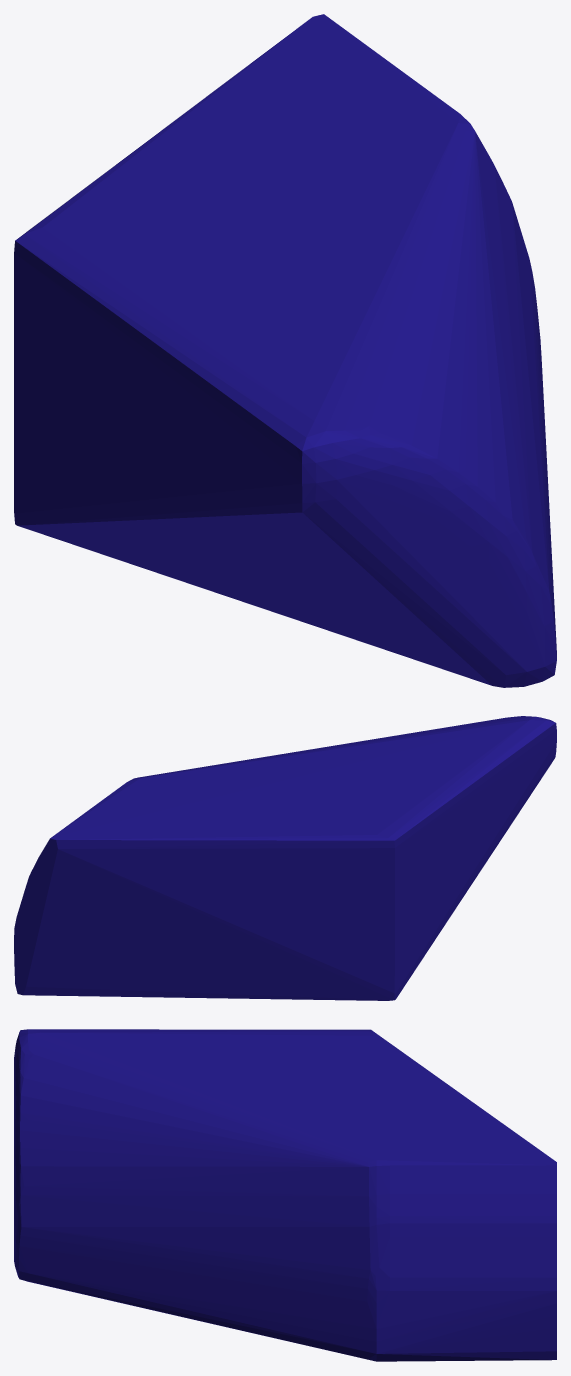
The model's file is right-hip-pitch-0_part_20.obj.
3 renders of one model, top to bottom at view 1: azimuth 30°, elevation 25°; view 2: azimuth 150°, elevation 25°; view 3: azimuth 270°, elevation 25°, orthographic. The views are drawn at different scales.
Size of the model in its own units: 0.0657 by 0.0359 by 0.0949.
